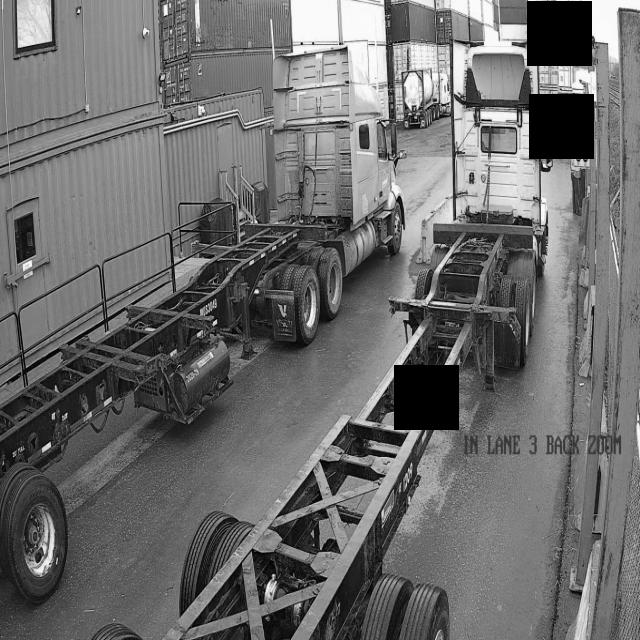truck_without_container: (163, 41, 552, 640), (0, 48, 405, 602)
